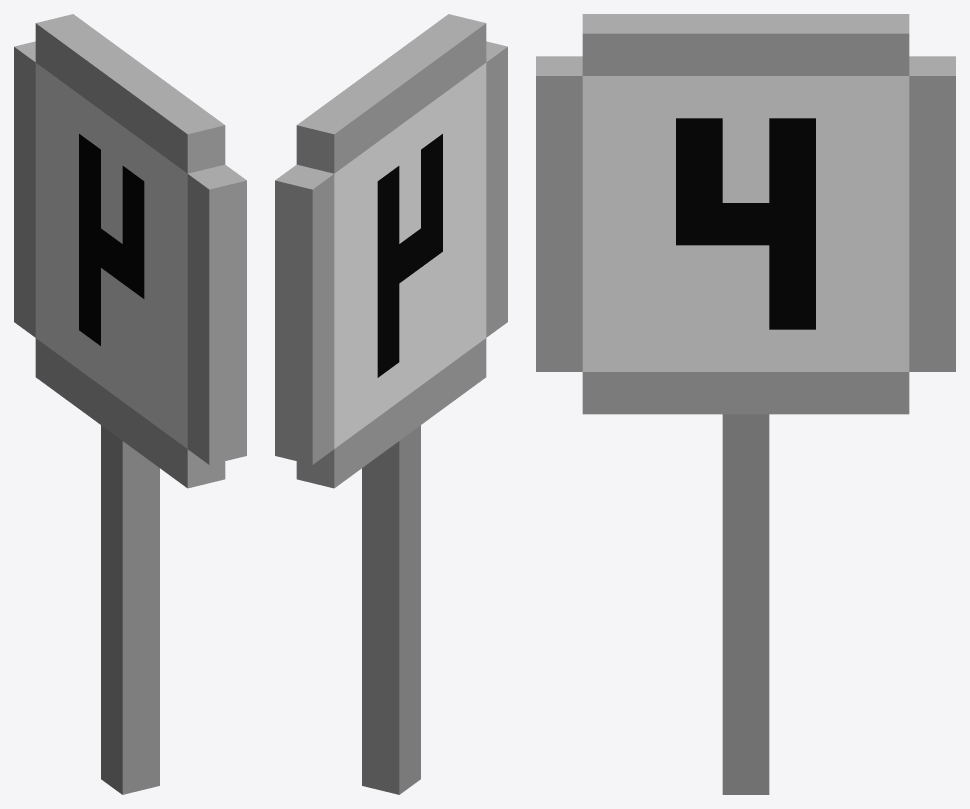
The model's file is Four.obj.
3 renders of one model, left to right at view 1: azimuth 30°, elevation 25°; view 2: azimuth 150°, elevation 25°; view 3: azimuth 270°, elevation 25°, orthographic. The views are drawn at different scales.
Bounding box in the file's own units: 1 × 18 × 9.
1 material, 1 textured.
